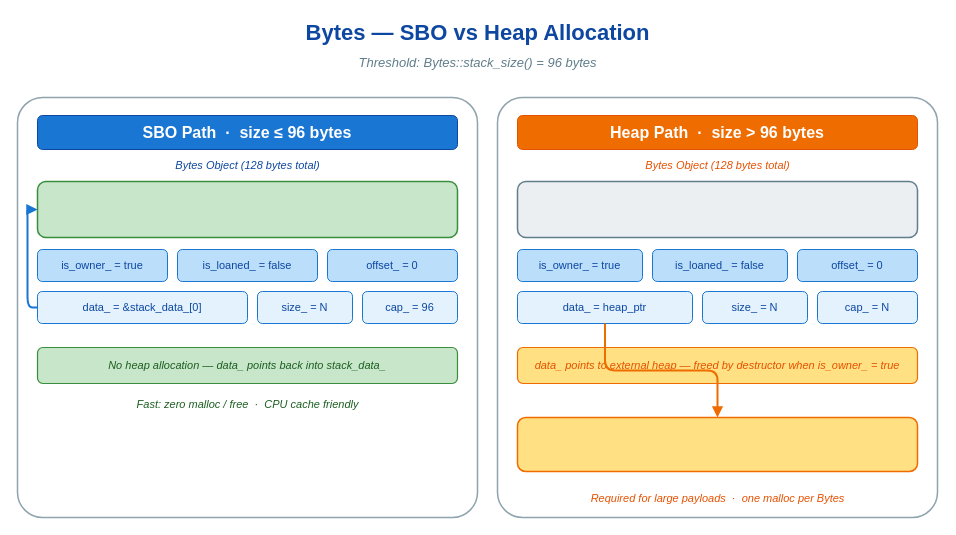
Some shapes in this 956 by 535 pixel diagram are drawn without their labels. Each missing label, with the centre of its shape:
Heap / Pool Memory bytes_malloc allocated, size = N: the point at 717,444
stack_data_[96] inline data stored here: the point at 247,209
stack_data_[96] unused: the point at 717,209
